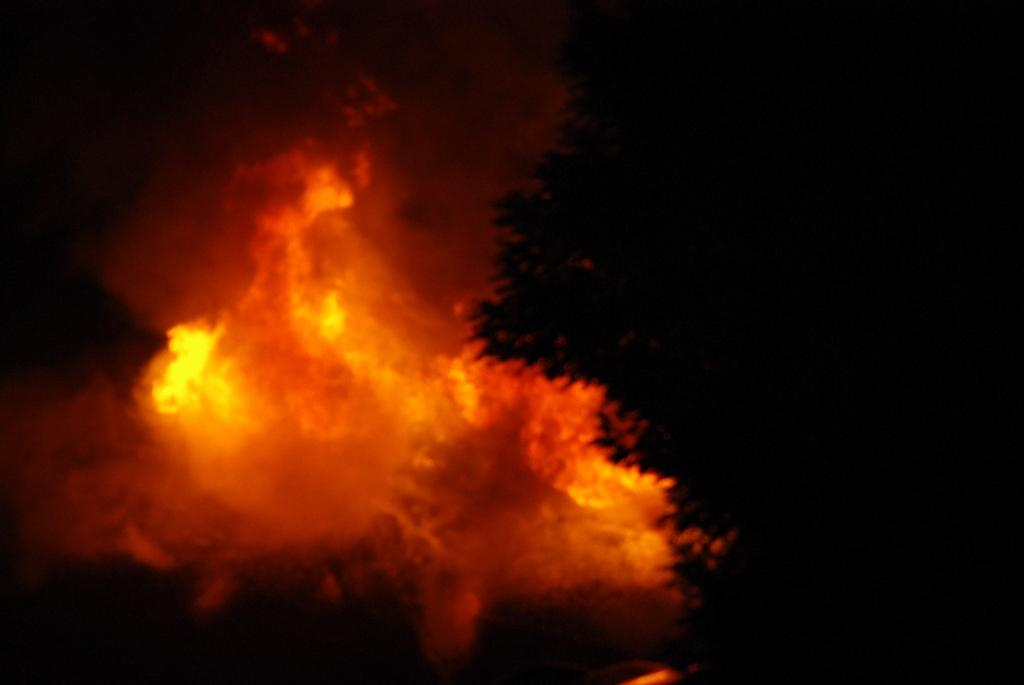fire: (532, 398, 643, 572), (267, 172, 367, 353), (395, 348, 505, 447), (148, 330, 263, 420)
